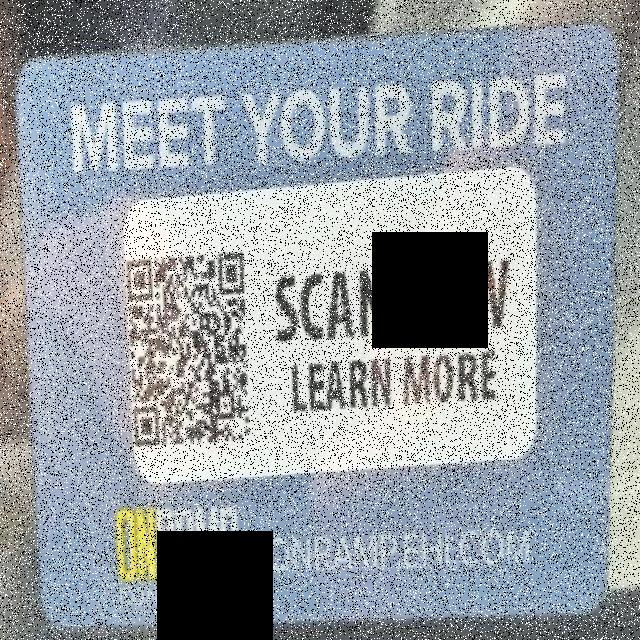QR_CODE: (112, 228, 274, 468)
